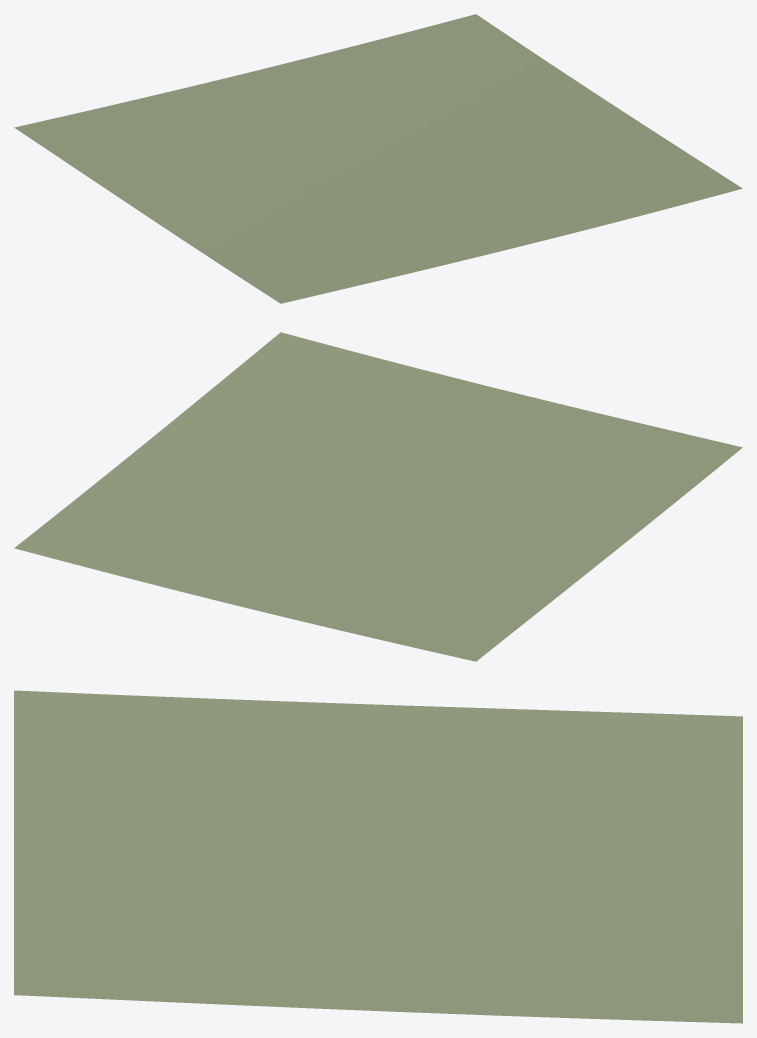
File: expanse-5-10.glb
3 renders of one model, top to bottom at view 1: azimuth 30°, elevation 25°; view 2: azimuth 150°, elevation 25°; view 3: azimuth 270°, elevation 25°, orthographic. The views are drawn at different scales.
Visible parts, largest first — view 1: expanse-5-10; view 2: expanse-5-10; view 3: expanse-5-10.
Boxes of the visible parts, x1,y1,x2,y2 form: expanse-5-10: [14, 14, 742, 303]; expanse-5-10: [14, 332, 742, 661]; expanse-5-10: [14, 690, 742, 1023].
Bounding box in the file's own units: 256 × 12.58 × 256.
